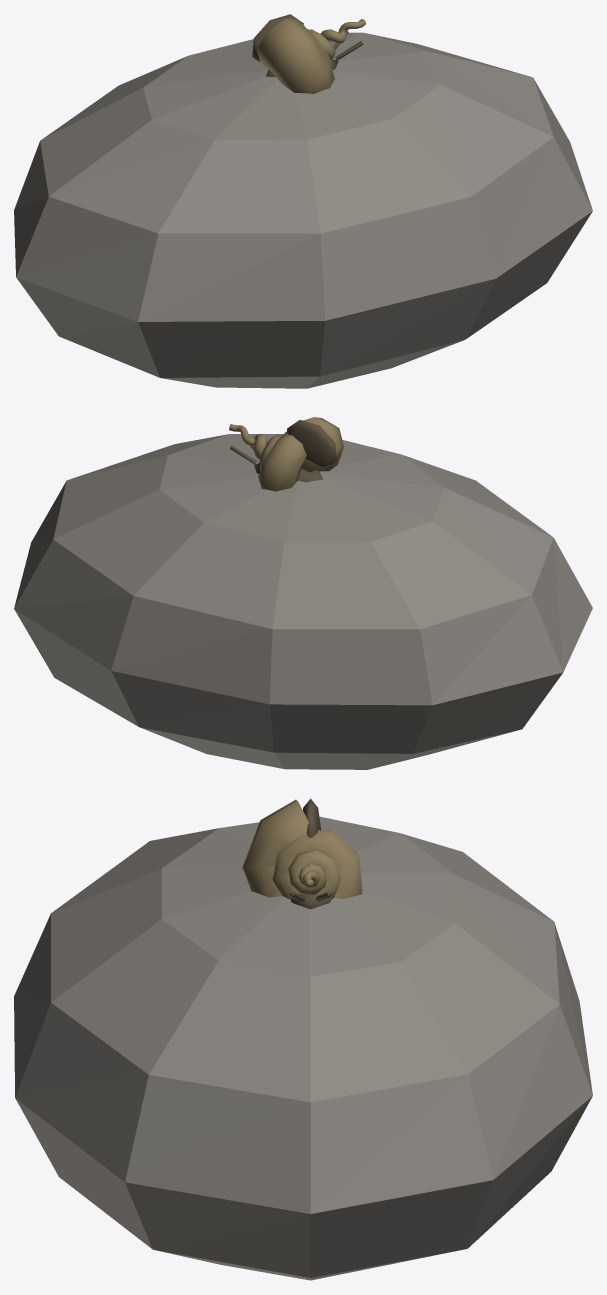
Rendered from lake-lymnaea-shallows-0.glb.
The picture shows the model from 3 angles, top to bottom: view 1: azimuth 30°, elevation 25°; view 2: azimuth 150°, elevation 25°; view 3: azimuth 270°, elevation 25°; orthographic projection. The views are drawn at different scales.
Parts seen in each view (by area): view 1: lake-lymnaea-shallows-0; view 2: lake-lymnaea-shallows-0; view 3: lake-lymnaea-shallows-0.
Part boxes in pixels (x1,y1,x2,y2): lake-lymnaea-shallows-0: (14,14,592,388); lake-lymnaea-shallows-0: (14,417,592,769); lake-lymnaea-shallows-0: (14,798,592,1280).
Bounding box in the file's own units: 0.2025 × 0.1183 × 0.1507.
